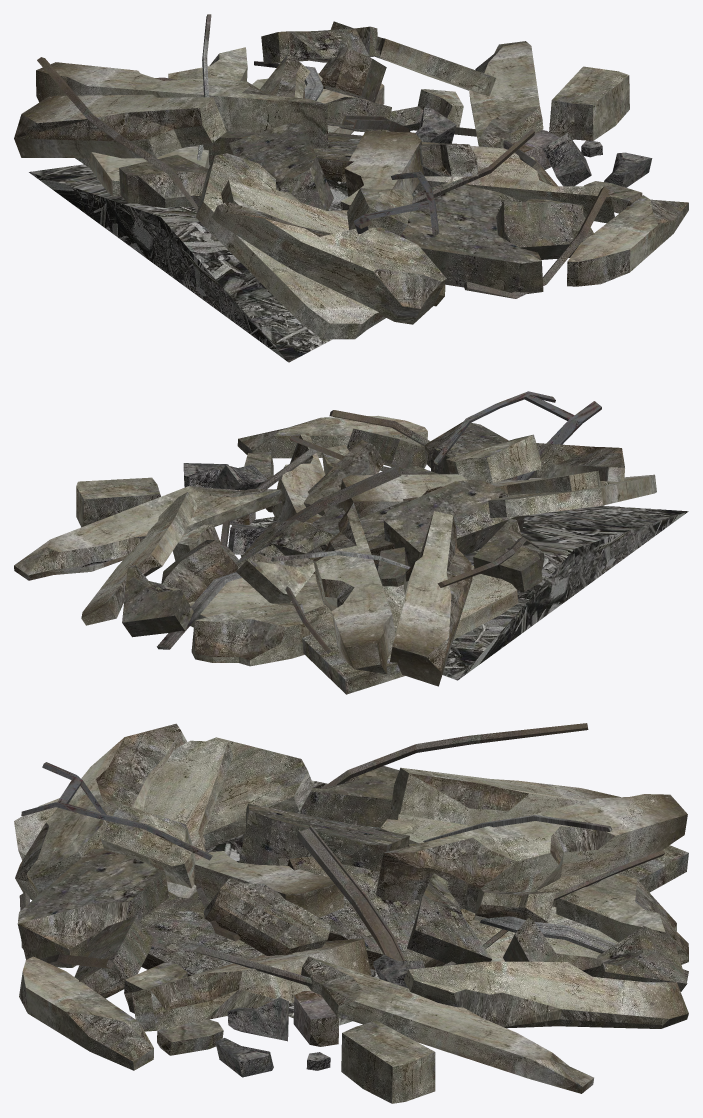
Rendered from concrete_debris256pile001a.glb.
3 views of the same model, one above another, from view 1: azimuth 30°, elevation 25°; view 2: azimuth 150°, elevation 25°; view 3: azimuth 270°, elevation 25° (orthographic). The views are drawn at different scales.
Parts seen in each view (by area): view 1: 0_composite_debris, 1_concretefloor020a; view 2: 0_composite_debris, 1_concretefloor020a; view 3: 0_composite_debris, 1_concretefloor020a.
Part boxes in pixels (bbox=[...]): 0_composite_debris: bbox=[14, 14, 688, 339]; 1_concretefloor020a: bbox=[29, 164, 420, 362]; 0_composite_debris: bbox=[14, 391, 656, 694]; 1_concretefloor020a: bbox=[232, 505, 688, 680]; 0_composite_debris: bbox=[14, 723, 688, 1103]; 1_concretefloor020a: bbox=[205, 780, 446, 1025].
Size of the model in its own units: 6.11 by 1.26 by 6.42.
2 materials, 2 textured.
